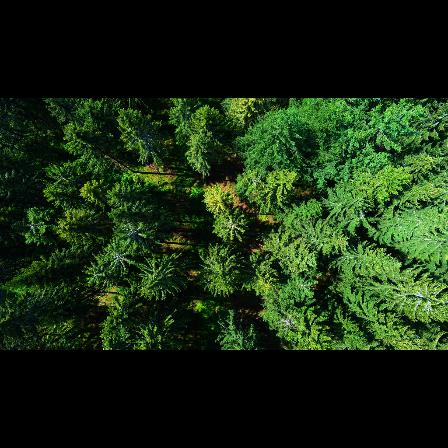Sick: (113, 218, 158, 251), (210, 213, 251, 243), (102, 244, 136, 274), (271, 308, 303, 338)
